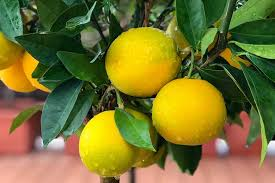orange: (72, 108, 158, 178), (105, 24, 184, 99), (150, 75, 228, 147)
